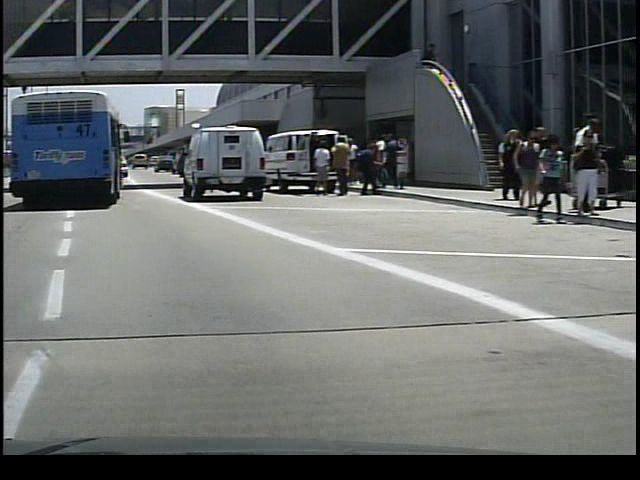person: (565, 118, 600, 219), (574, 127, 610, 218), (326, 137, 350, 199), (306, 134, 328, 195), (375, 132, 398, 189)
